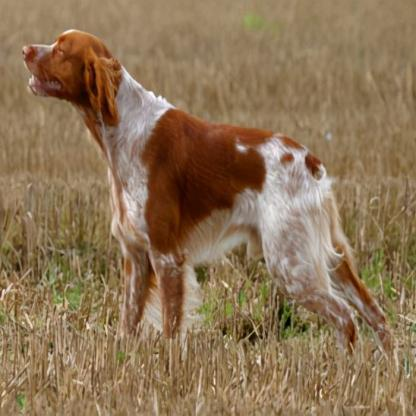dog: (21, 28, 399, 345)
